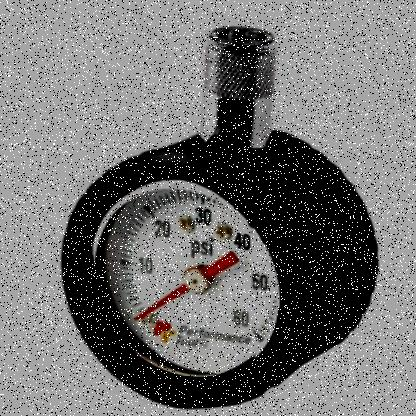needle: (133, 281, 190, 322)
